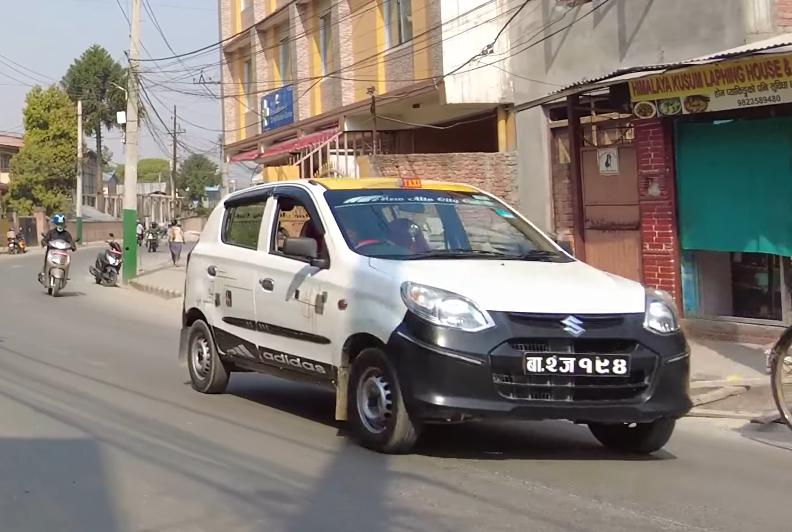scooter: (34, 231, 82, 303), (89, 228, 130, 288)
taxi: (169, 158, 690, 466)
